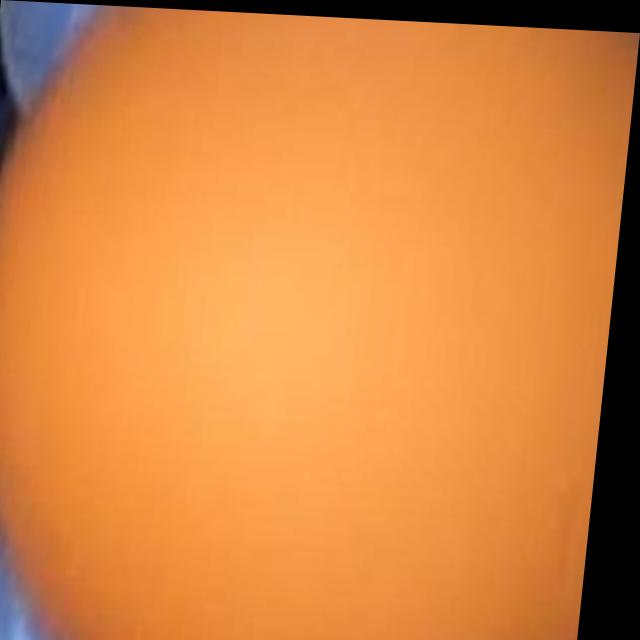fresh: (0, 1, 640, 640)
